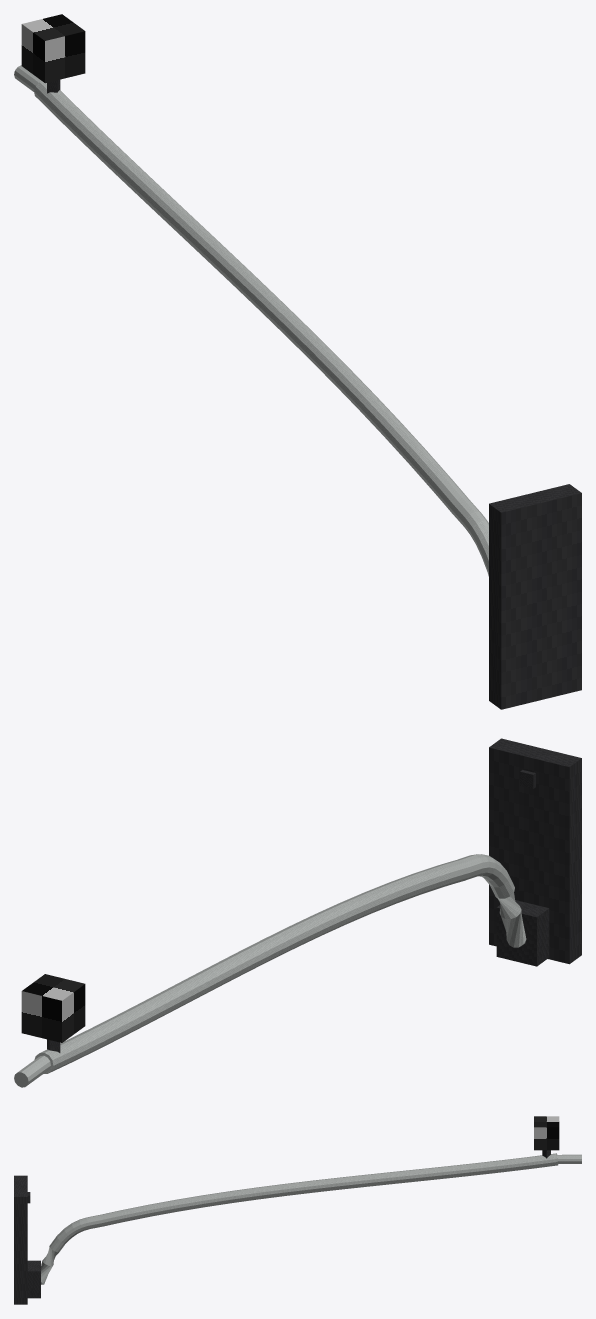
Rendered from arm_4_straight.obj.
The picture shows the model from 3 angles, top to bottom: view 1: azimuth 30°, elevation 25°; view 2: azimuth 150°, elevation 25°; view 3: azimuth 270°, elevation 25°; orthographic projection. The views are drawn at different scales.
Parts seen in each view (by area): view 1: pole_light_mount_4_straight; view 2: pole_light_mount_4_straight; view 3: pole_light_mount_4_straight.
Part boxes in pixels (x1=…): pole_light_mount_4_straight: x1=14, y1=14, x2=581, y2=709; pole_light_mount_4_straight: x1=14, y1=738, x2=581, y2=1087; pole_light_mount_4_straight: x1=14, y1=1116, x2=581, y2=1304.
Size of the model in its own units: 0.375 by 1.4 by 4.19.
